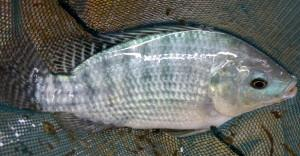Tilapia: (0, 20, 299, 138)
